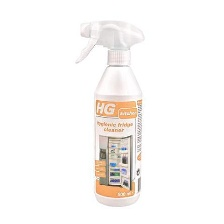cleaning_solution: (73, 17, 148, 213)
